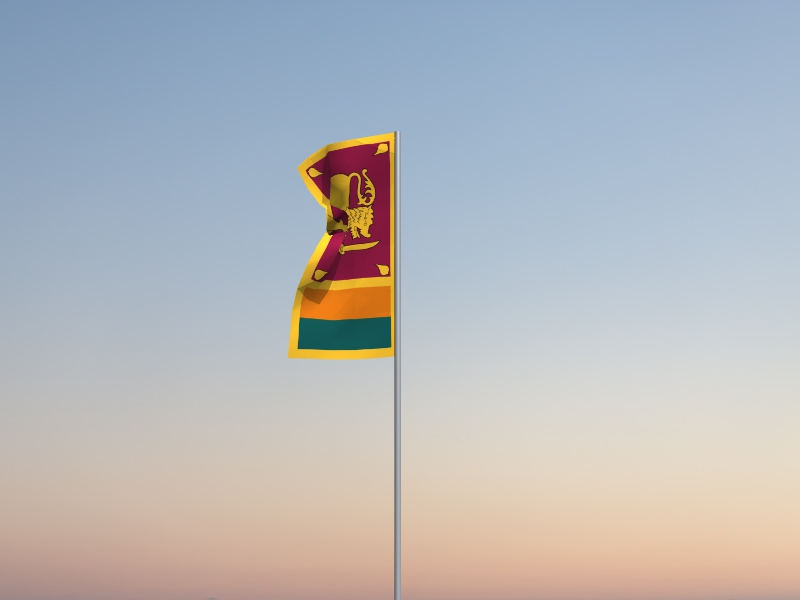lk: (287, 133, 394, 361)
